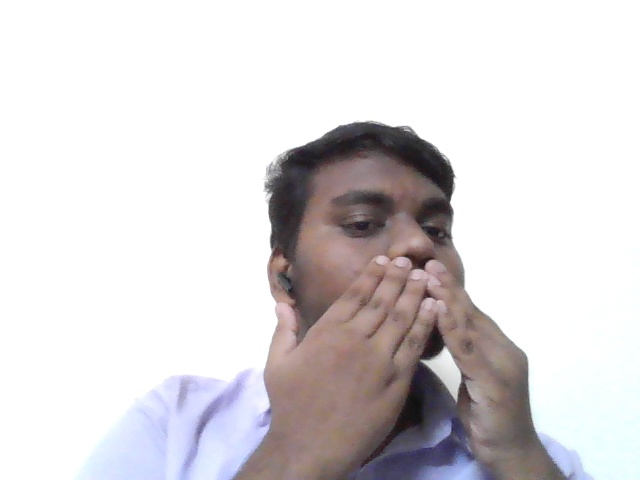Thank you: (246, 249, 550, 455)
